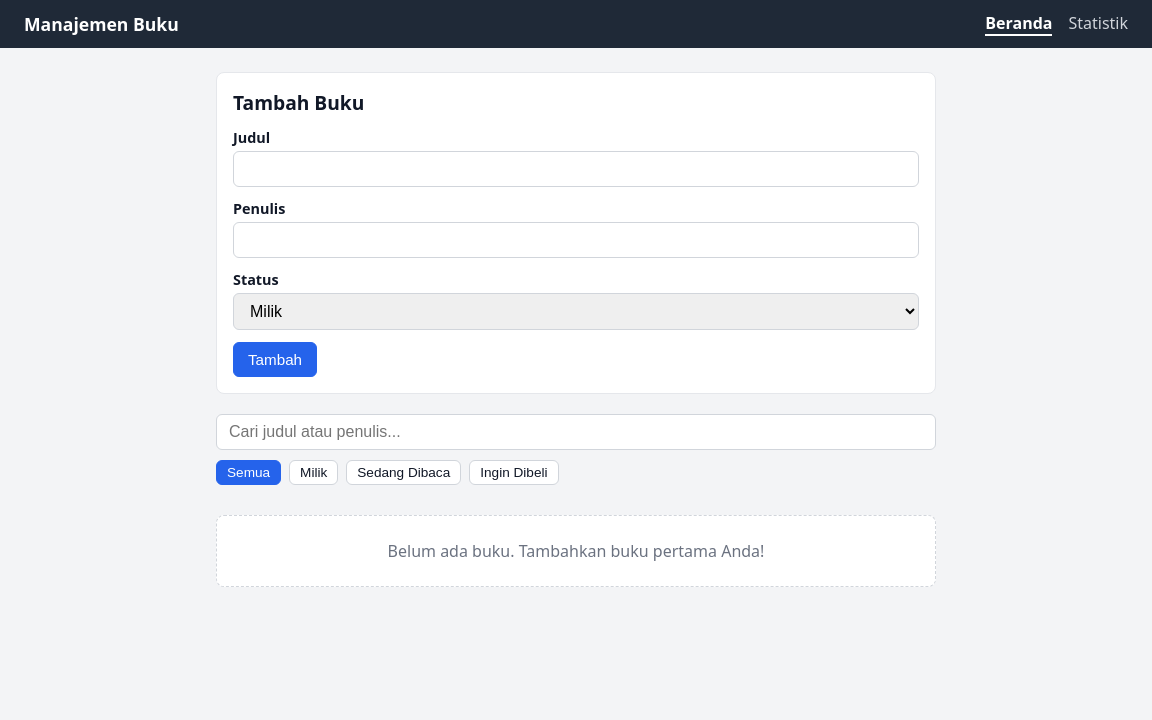
Test: Aplikasi Manajemen Buku (integrasi) › mengedit buku
Type "Judul Lama" into the field labelled "Judul" at x=576, y=169, box [233,151,919,187]
Type "Penulis A" into the field labelled "Penulis" at x=576, y=240, box [233,222,919,258]
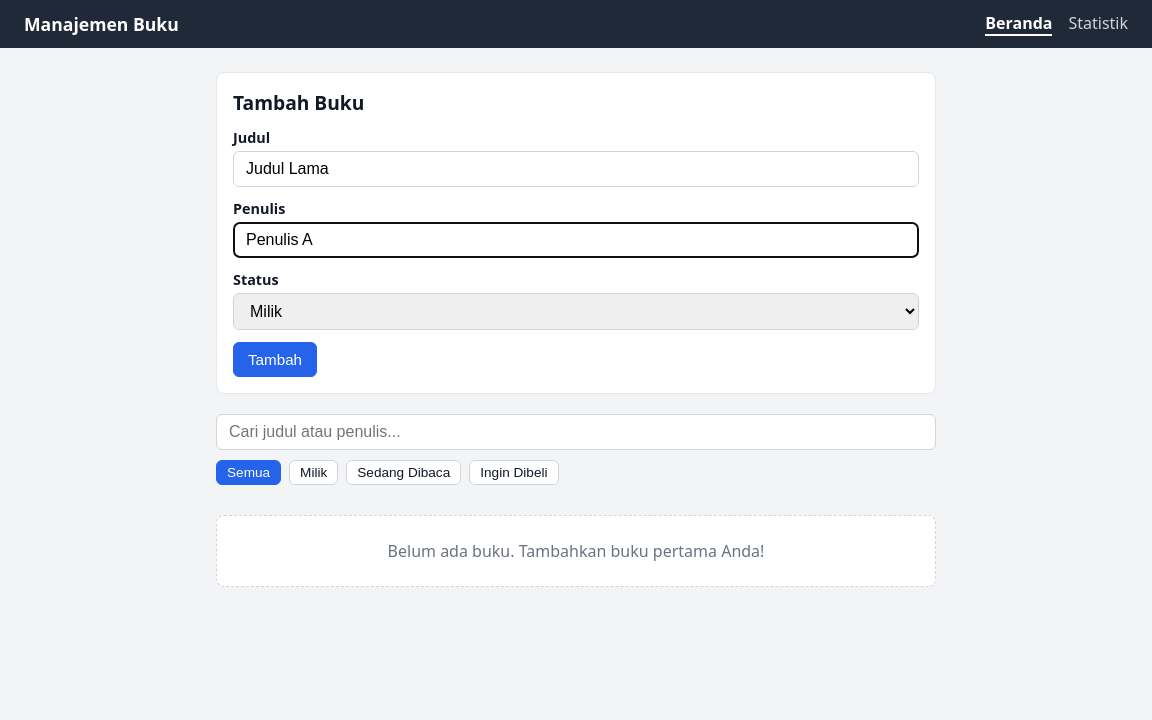
Select "Milik" in the dropdown labelled "Status" at x=576, y=312, box [233,293,919,330]
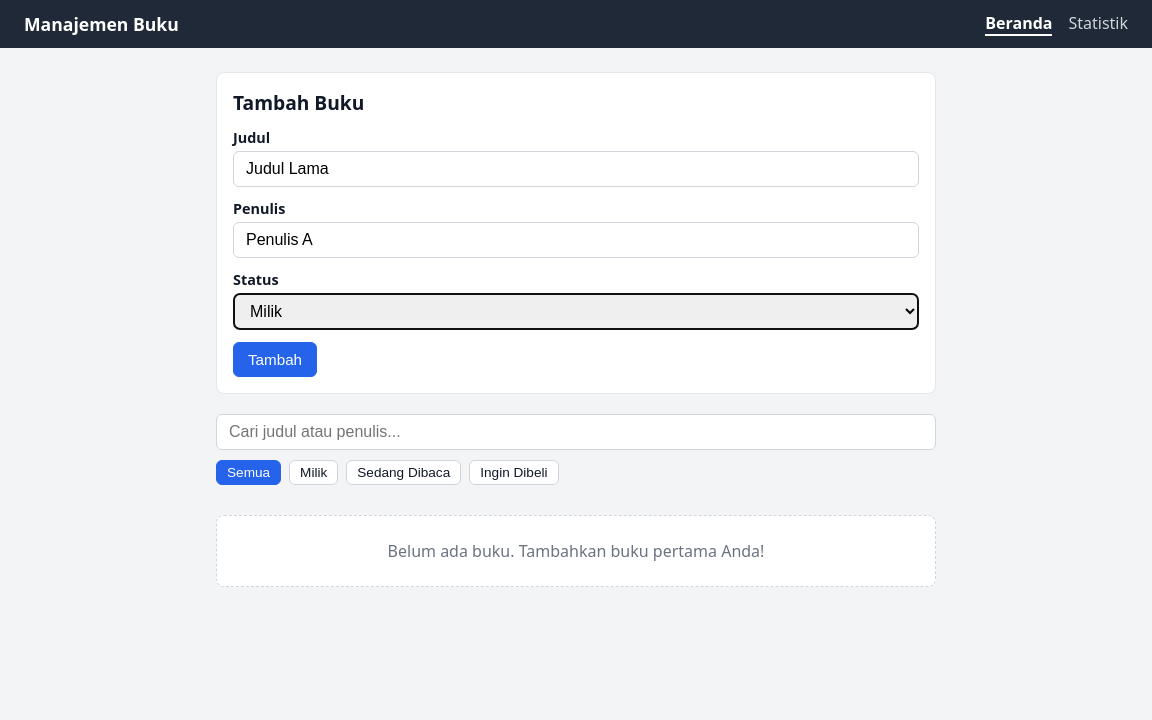
Click the button "Tambah" at x=275, y=360, box [233,342,317,377]
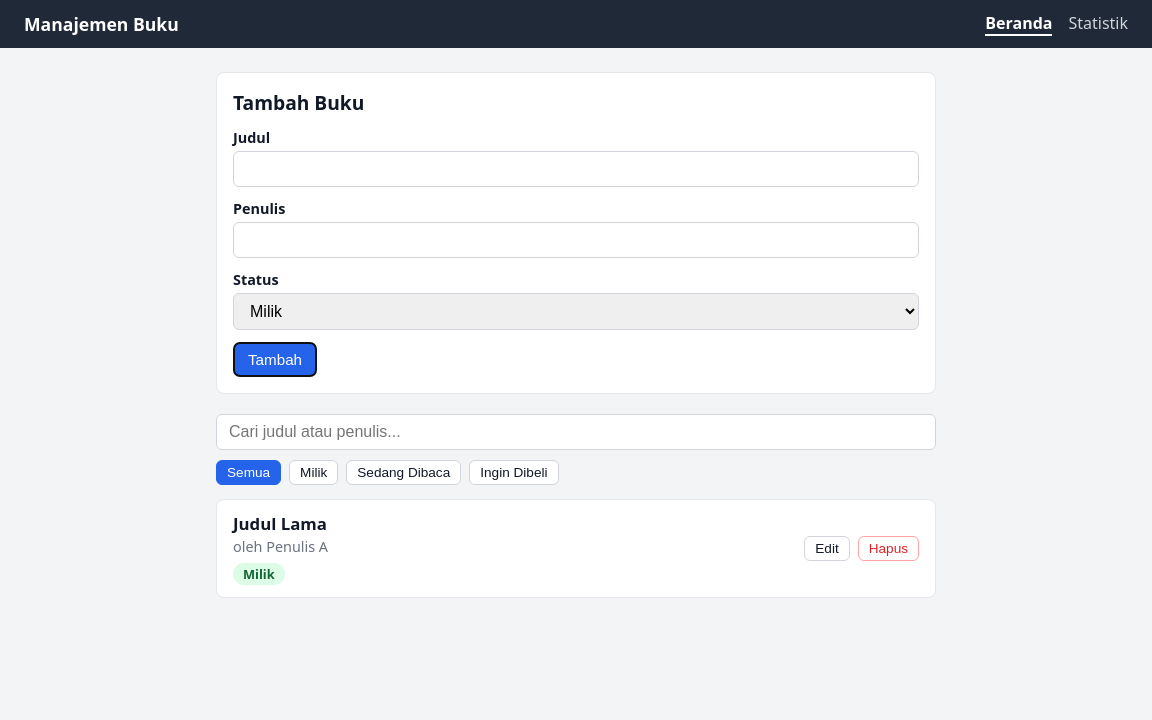
Click the button with aria-label "Edit Judul Lama" at x=827, y=548, box [804,536,850,561]
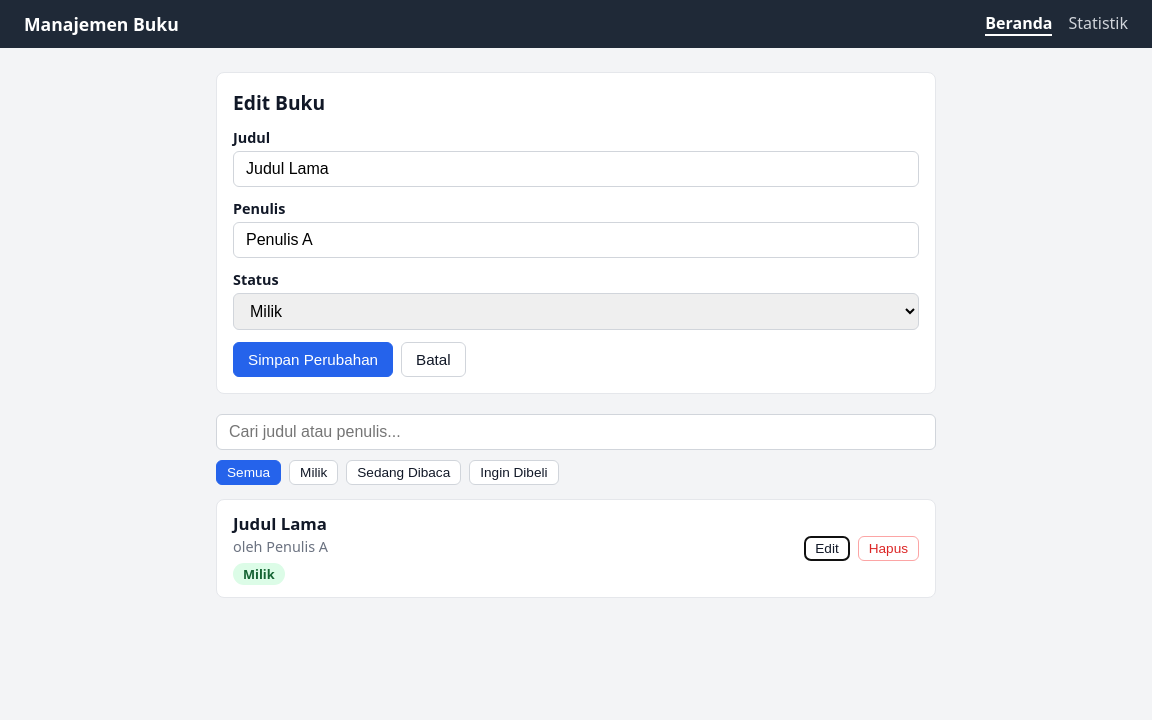
Replace the text in the field labelled "Judul" with "Judul Baru" at x=576, y=169, box [233,151,919,187]
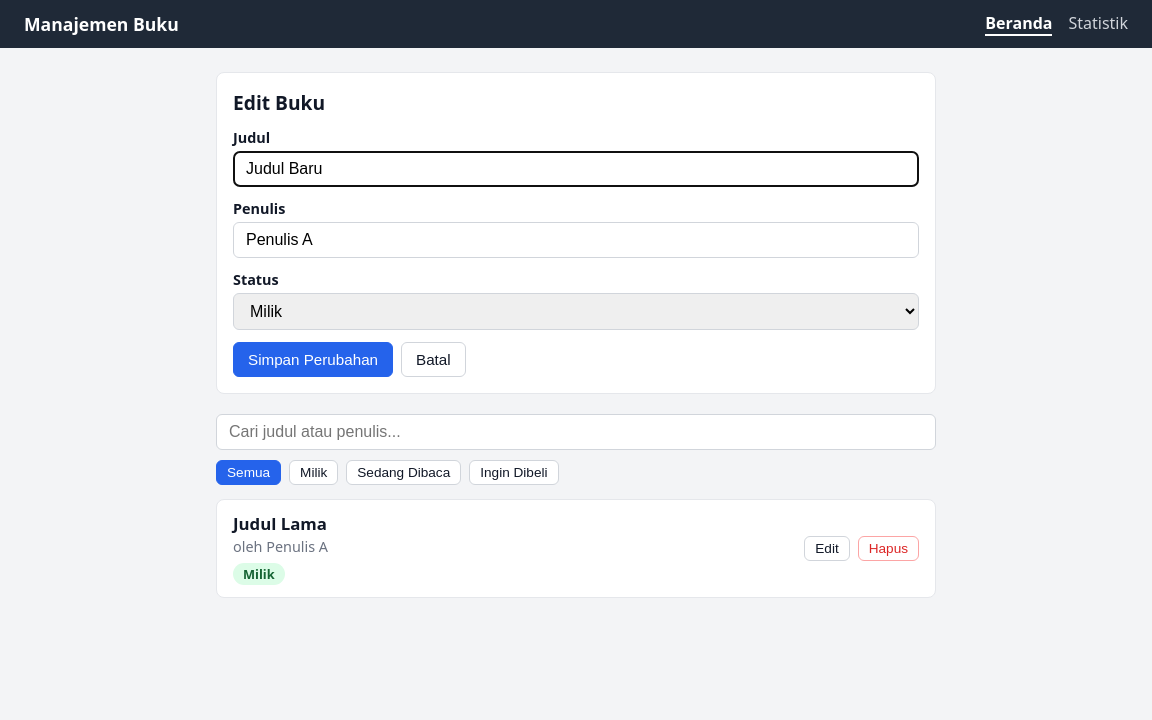
Click the button "Simpan Perubahan" at x=313, y=360, box [233,342,393,377]
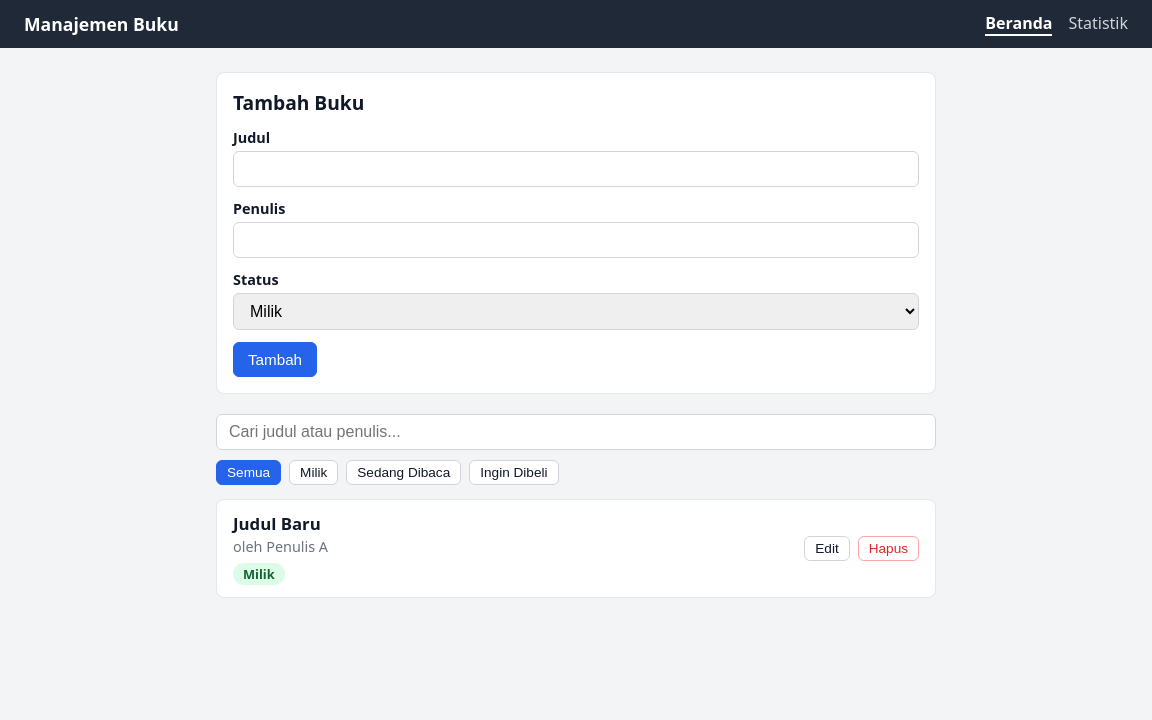
expect the heading "Judul Baru" is shown: met, box [233,512,328,535]
expect the heading "Judul Lama" is gone: met
